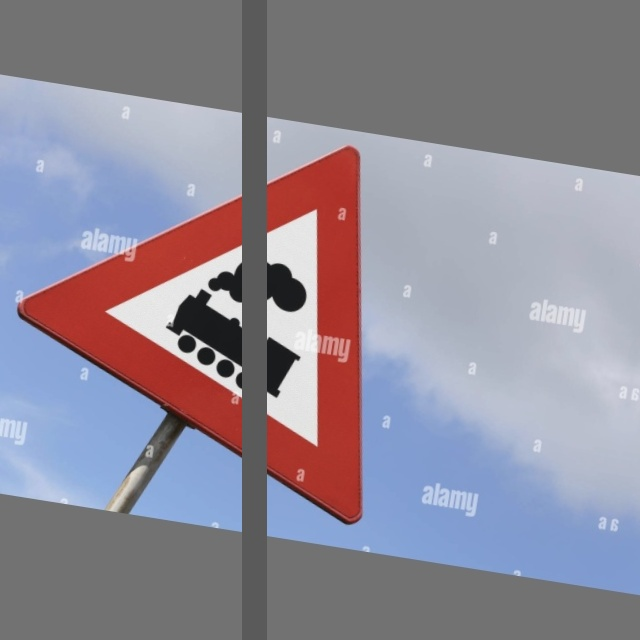Unguarded_Level_Crossing: (36, 108, 419, 478)
